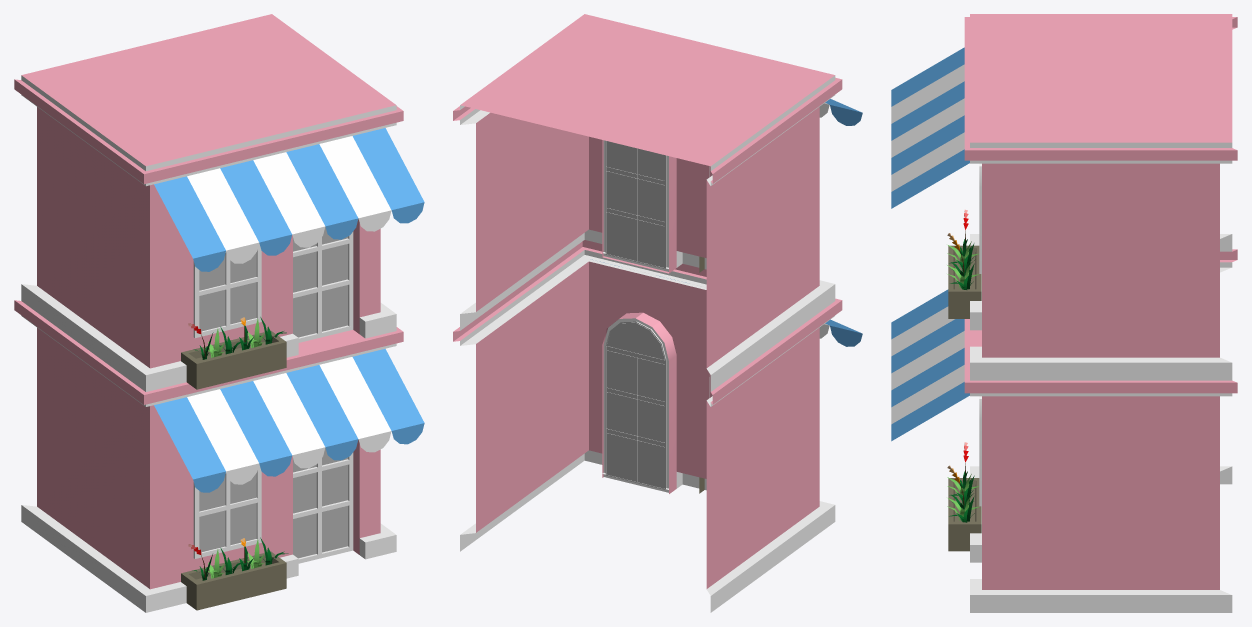
Rendered from building_5.fbx.
3 views of the same model, side by side, from view 1: azimuth 30°, elevation 25°; view 2: azimuth 150°, elevation 25°; view 3: azimuth 270°, elevation 25° (orthographic). The views are drawn at different scales.
Visible parts, largest first — view 1: building_5; view 2: building_5; view 3: building_5.
Boxes of the visible parts, <box> form: building_5: <box>14,14,424,612</box>; building_5: <box>453,14,862,612</box>; building_5: <box>891,14,1237,612</box>.
Size of the model in its own units: 419 by 689 by 460.
Materials: 1 (1 with a texture image).
